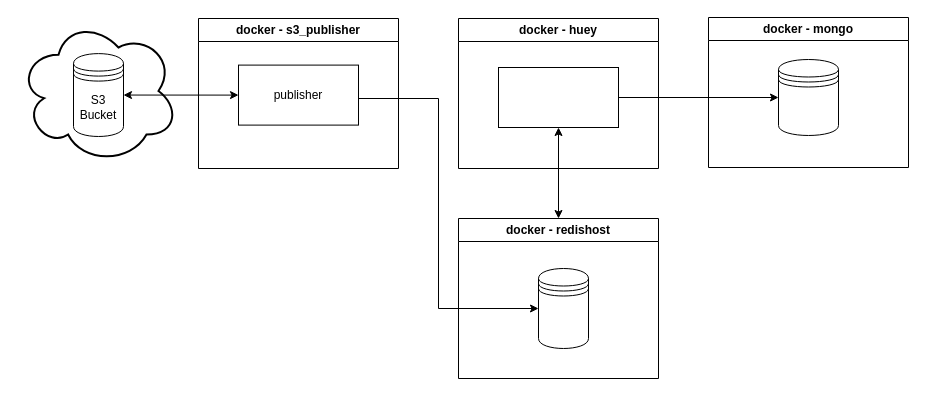
Image size: 926x396. Some labels were removed from this diagram. The shapes that lost their labels are listed below. From the top down, each one's box as (x1, y1, x2, y2) in pixels, then its label:
(498, 66, 618, 128): huey_consumer
(778, 58, 838, 136): MongoDB
(538, 268, 588, 348): Redis
